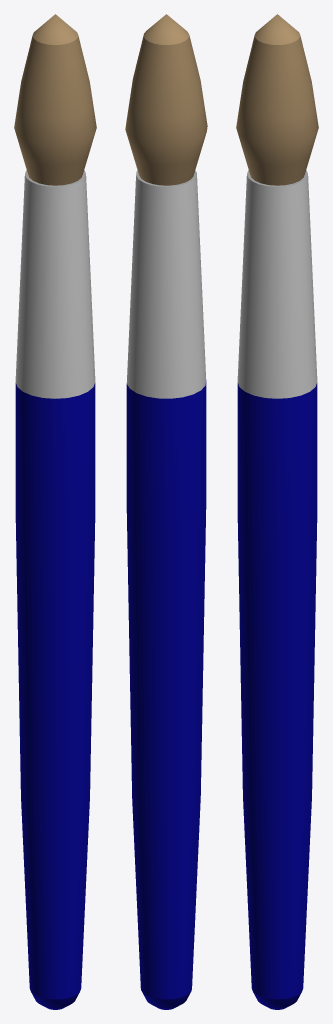
The model's file is Brush - Copy.fbx.
3 views of the same model, side by side, from view 1: azimuth 90°, elevation 25°; view 2: azimuth 150°, elevation 25°; view 3: azimuth 270°, elevation 25° (orthographic).
Visible parts, largest first — view 1: pCylinder2, pCylinder3; view 2: pCylinder2, pCylinder3; view 3: pCylinder2, pCylinder3.
Part boxes in pixels (x1,y1,x2,y2): pCylinder2: (15,170,95,1009); pCylinder3: (14,14,96,185); pCylinder2: (126,170,206,1009); pCylinder3: (125,14,207,185); pCylinder2: (237,170,317,1009); pCylinder3: (236,14,318,185).
Bounding box in the file's own units: 1.08 × 14.31 × 1.08.
